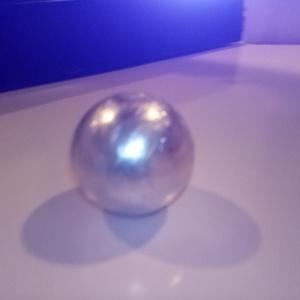alive_ball: (68, 92, 194, 218)
